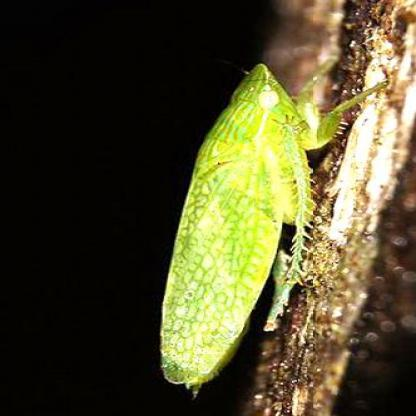green-leafhopper: (157, 63, 369, 391)
